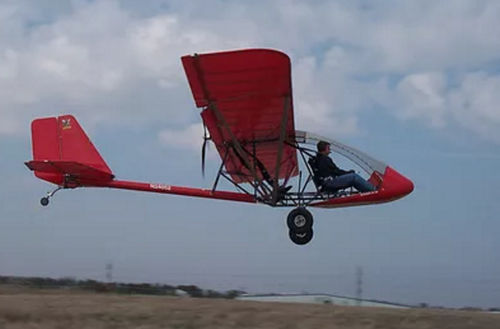Aeronef_de_loisir: (27, 38, 421, 251)
